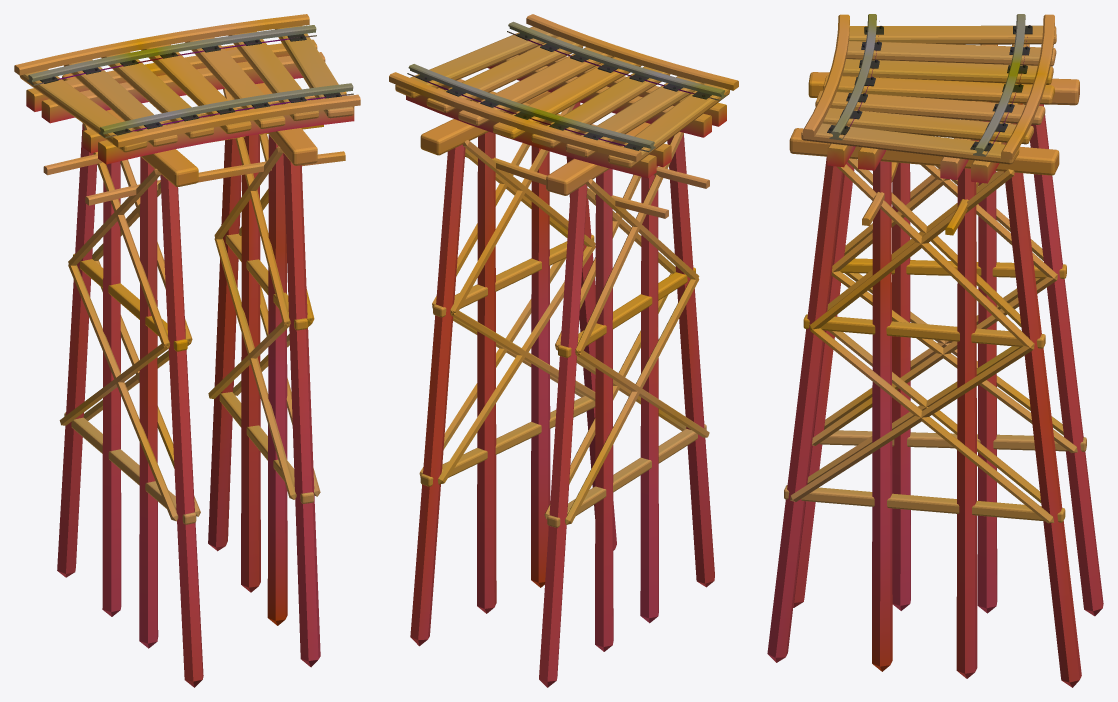
File: Track_Bridge_Curve_R20_15_A.glb
3 views of the same model, side by side, from view 1: azimuth 30°, elevation 25°; view 2: azimuth 150°, elevation 25°; view 3: azimuth 270°, elevation 25° (orthographic). The views are drawn at different scales.
Parts seen in each view (by area): view 1: Track_Bridge_Curve_R20_15_A; view 2: Track_Bridge_Curve_R20_15_A; view 3: Track_Bridge_Curve_R20_15_A.
Part boxes in pixels (left/top/right/bottom): Track_Bridge_Curve_R20_15_A: left=14, top=14, right=360, bottom=687; Track_Bridge_Curve_R20_15_A: left=389, top=14, right=738, bottom=687; Track_Bridge_Curve_R20_15_A: left=767, top=14, right=1103, bottom=687.
Bounding box in the file's own units: 5.66 × 10.85 × 5.83.
